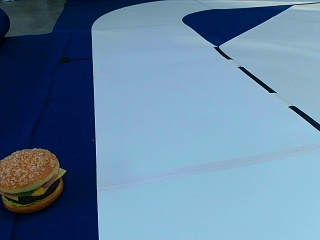burger: (1, 146, 64, 211)
